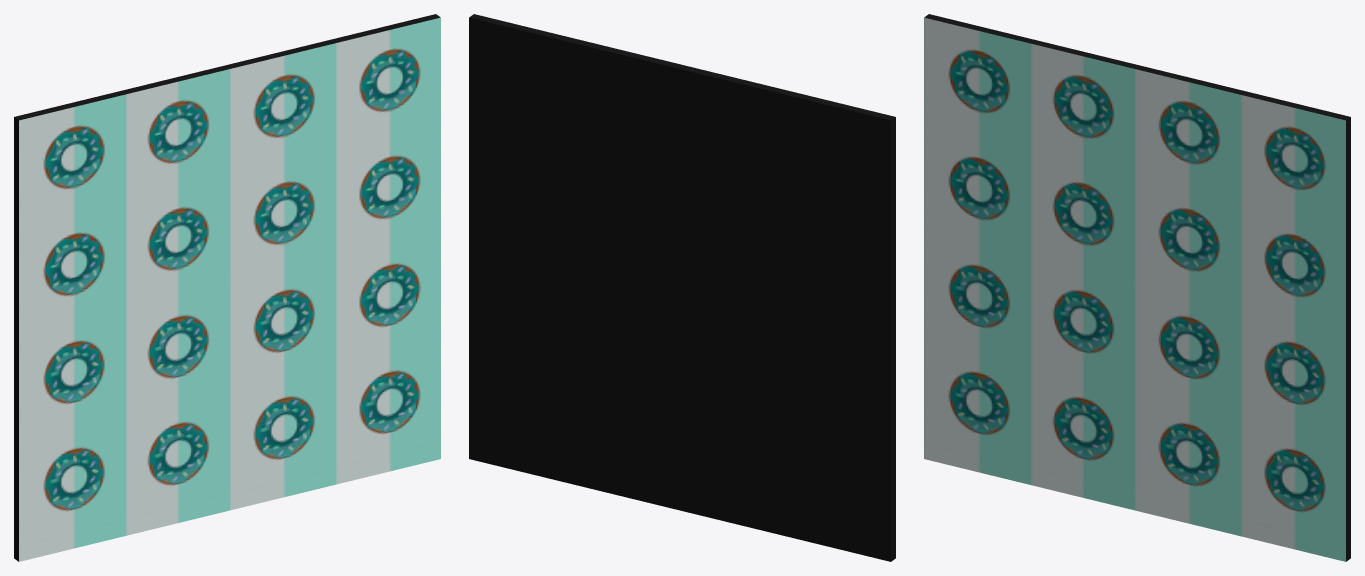
The model's file is Wall_B_01.FBX.
The picture shows the model from 3 angles, left to right: view 1: azimuth 30°, elevation 25°; view 2: azimuth 150°, elevation 25°; view 3: azimuth 330°, elevation 25°; orthographic projection.
Visible parts, largest first — view 1: Wall_B; view 2: Wall_B; view 3: Wall_B.
Boxes of the visible parts, <box> form: Wall_B: <box>14,14,440,561</box>; Wall_B: <box>469,14,895,561</box>; Wall_B: <box>924,14,1350,561</box>.
Size of the model in its own units: 500 by 500 by 10.
